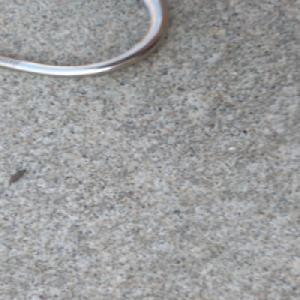ClampPart: (0, 0, 172, 81)
